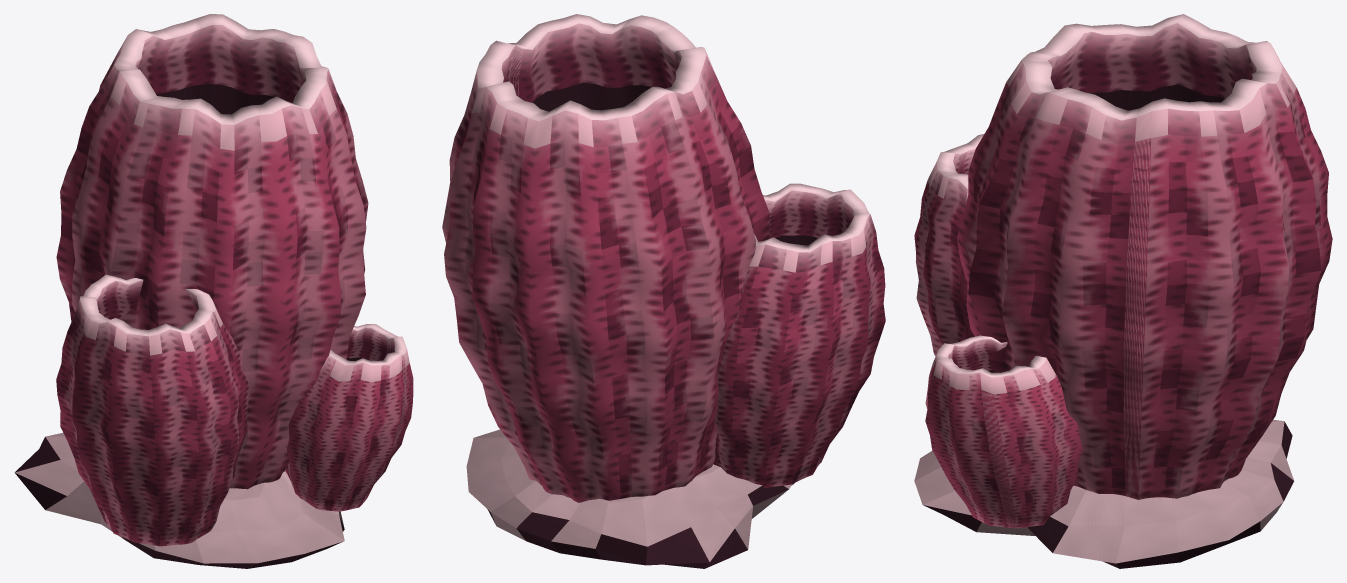
Rendered from barrel_sponge.glb.
3 views of the same model, side by side, from view 1: azimuth 30°, elevation 25°; view 2: azimuth 150°, elevation 25°; view 3: azimuth 270°, elevation 25° (orthographic). The views are drawn at different scales.
Parts seen in each view (by area): view 1: barrel_sponge; view 2: barrel_sponge; view 3: barrel_sponge.
Boxes of the visible parts, box(x1,y1,x2,y2) form: barrel_sponge: box(14, 14, 413, 568); barrel_sponge: box(442, 14, 885, 568); barrel_sponge: box(914, 14, 1332, 568).
Size of the model in its own units: 2.12 by 2.52 by 2.12.
Materials: 1 (1 with a texture image).
